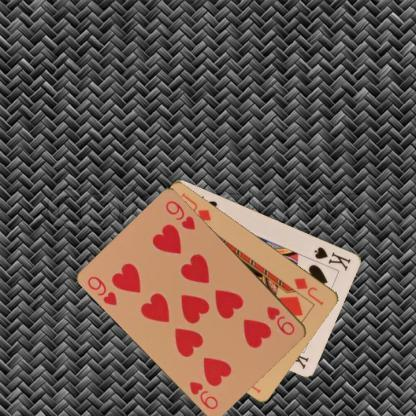9h: (86, 273, 120, 307), (264, 304, 297, 336)
Jd: (291, 275, 325, 306)
Ks: (312, 244, 352, 272)
